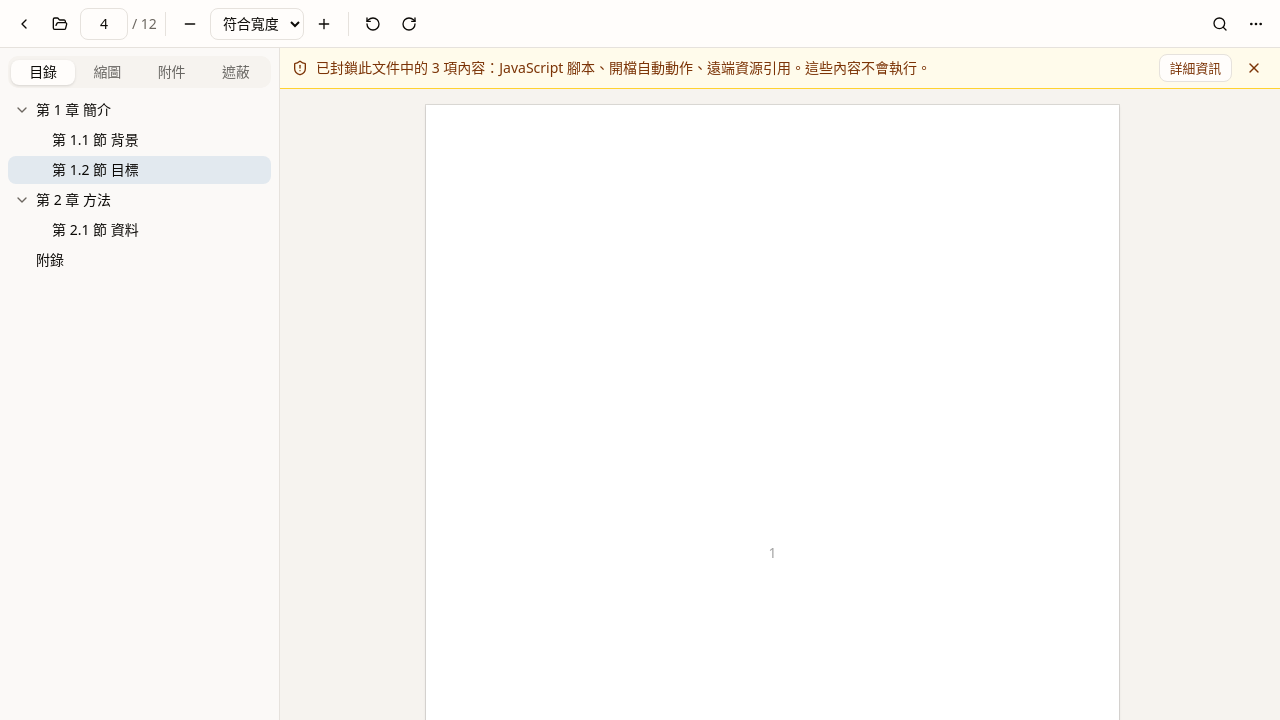
Test case: states › the menu has nothing to forget for a file without a remembered password (B2-26)
Step 1. Click the button named "更多" → [1256, 24], box [1240, 8, 1272, 40]
(page scrolled)
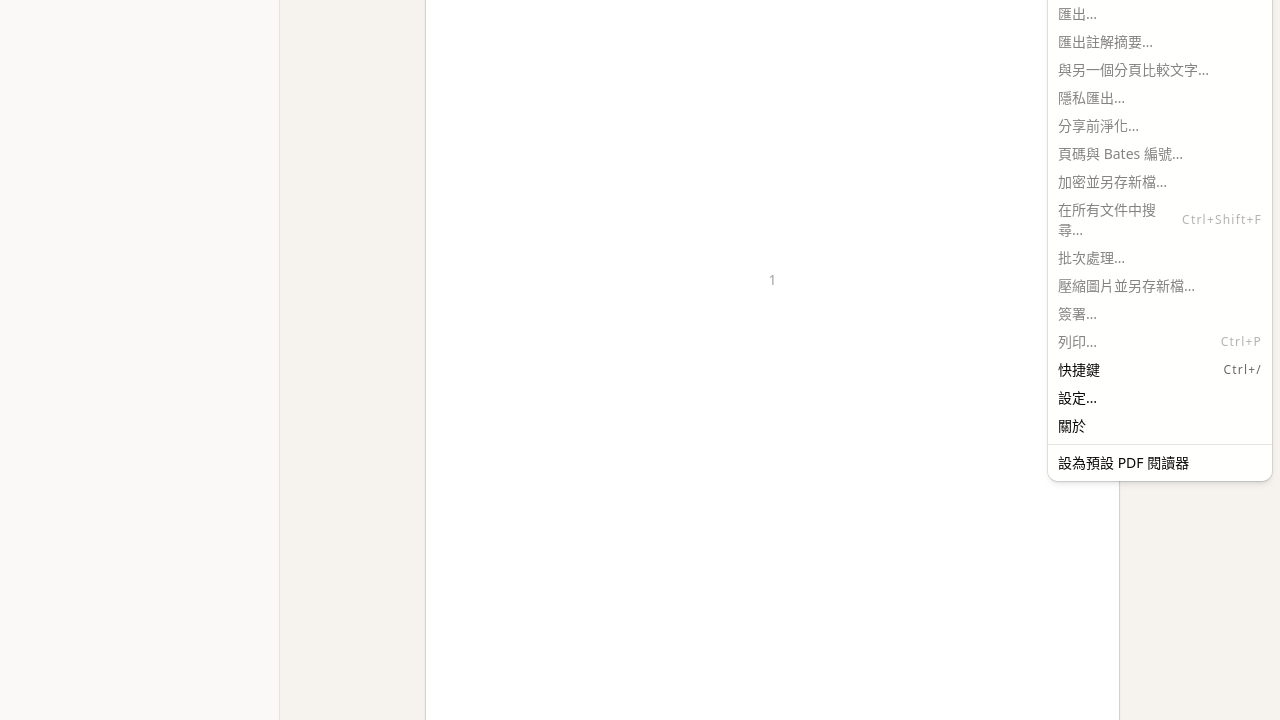
Expected: the menu item "設定…" is shown, [1058, 388, 1097, 407]
